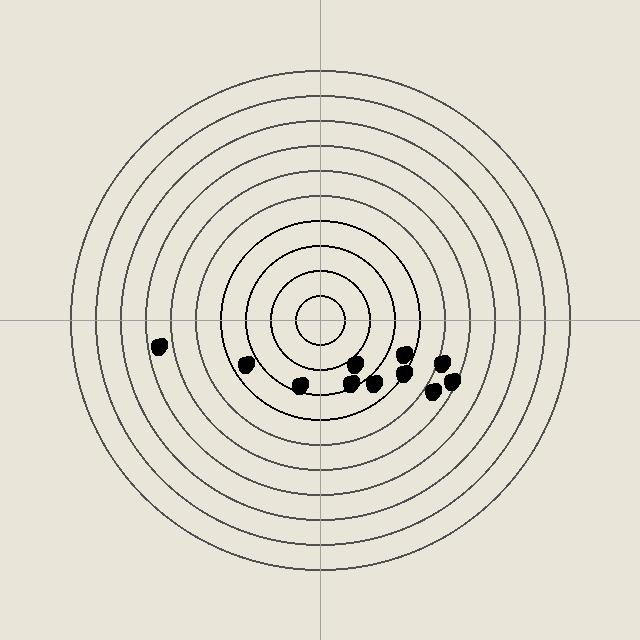horizontal_scatter: (340, 373, 360, 393), (148, 336, 168, 356), (235, 354, 255, 374), (431, 353, 451, 373), (344, 354, 364, 374), (422, 381, 442, 401), (393, 363, 413, 383), (393, 344, 413, 364), (441, 371, 461, 391), (289, 375, 309, 395), (363, 373, 383, 393)
